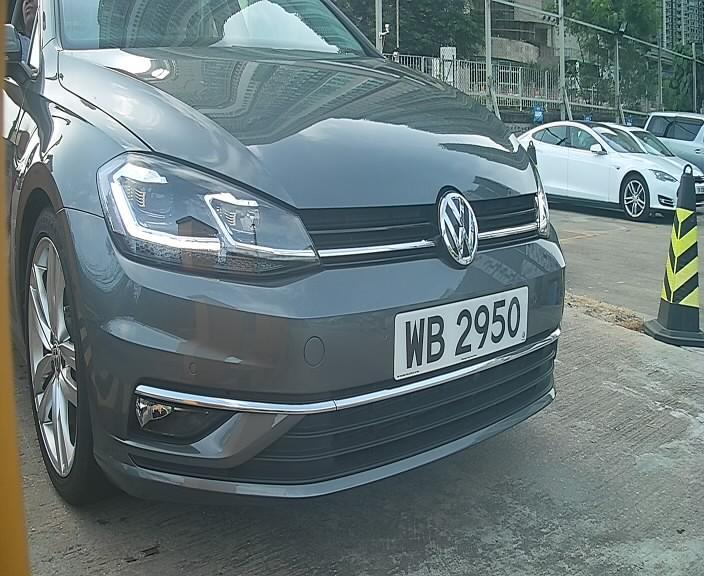privatecar: (10, 13, 573, 515)
